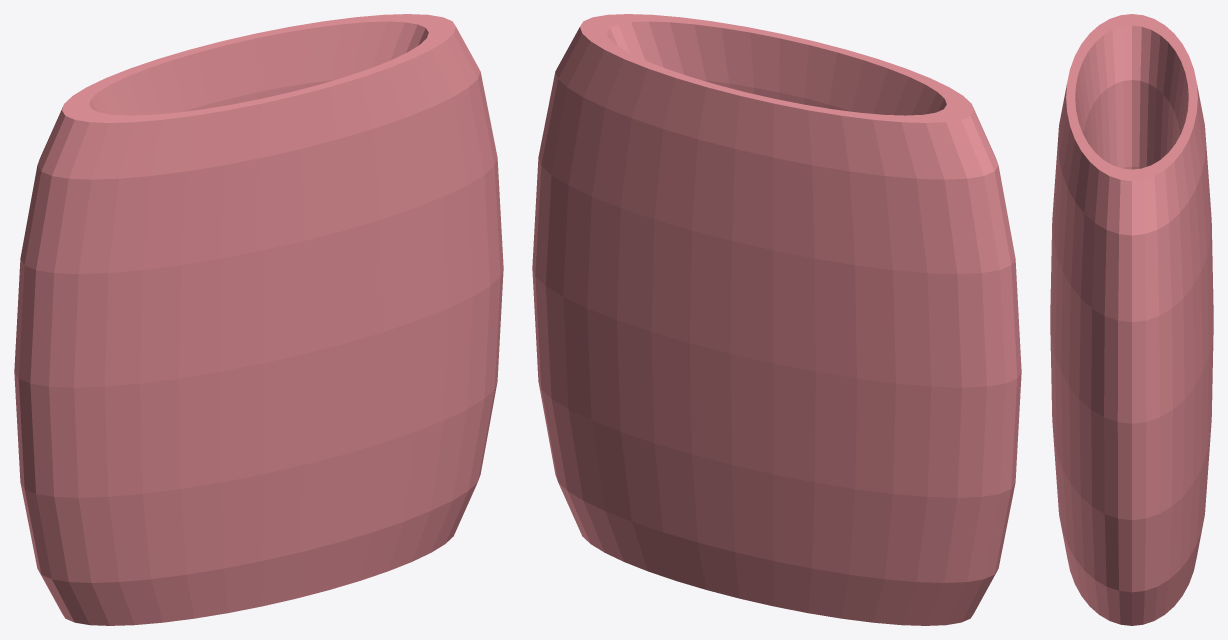
The model's file is red_blood_cell.glb.
3 views of the same model, side by side, from view 1: azimuth 30°, elevation 25°; view 2: azimuth 150°, elevation 25°; view 3: azimuth 270°, elevation 25° (orthographic). The views are drawn at different scales.
Visible parts, largest first — view 1: Torus; view 2: Torus; view 3: Torus.
Boxes of the visible parts, x1,y1,x2,y2 form: Torus: (14, 14, 503, 625); Torus: (532, 14, 1021, 625); Torus: (1050, 14, 1213, 625).
Bounding box in the file's own units: 0.06 × 0.06 × 0.02.
